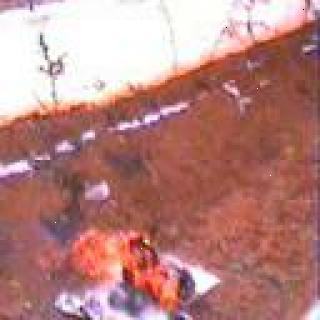fire: (40, 222, 195, 316)
